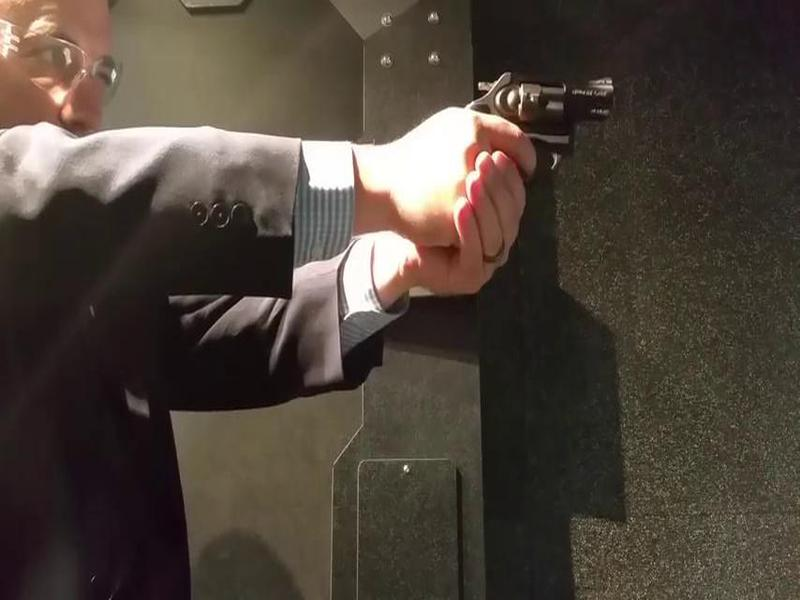Revolver: (457, 41, 637, 208)
